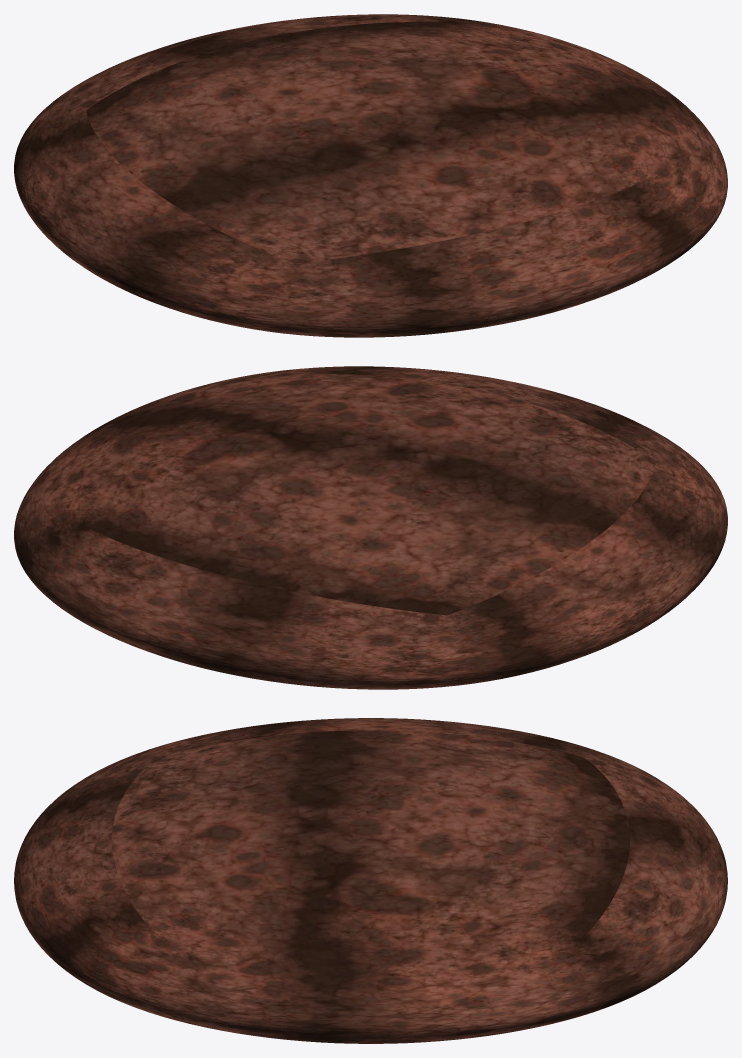
Rendered from Burger.obj.
The picture shows the model from 3 angles, top to bottom: view 1: azimuth 30°, elevation 25°; view 2: azimuth 150°, elevation 25°; view 3: azimuth 270°, elevation 25°; orthographic projection.
Parts seen in each view (by area): view 1: Cube; view 2: Cube; view 3: Cube.
Part boxes in pixels (x1,y1,x2,y2): Cube: (14, 14, 727, 337); Cube: (14, 366, 727, 689); Cube: (14, 718, 727, 1043).
Bounding box in the file's own units: 6.09 × 1.07 × 6.09.
1 material, 1 textured.
